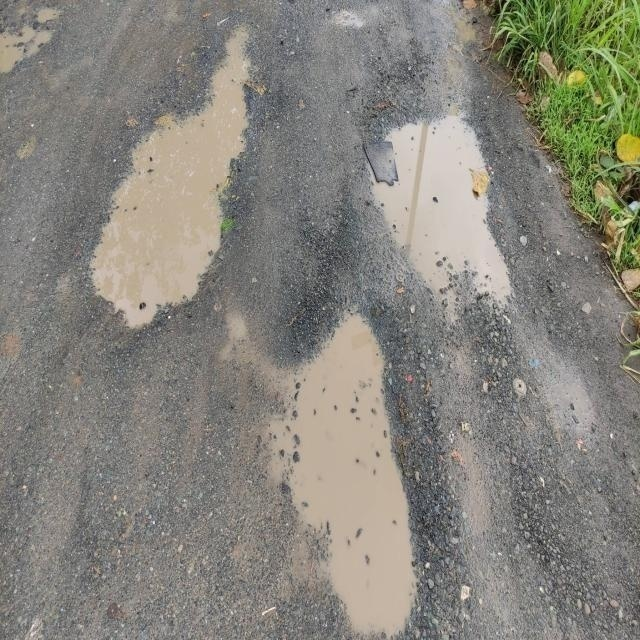pothole: (67, 11, 264, 373), (262, 302, 428, 640), (354, 70, 514, 340)
